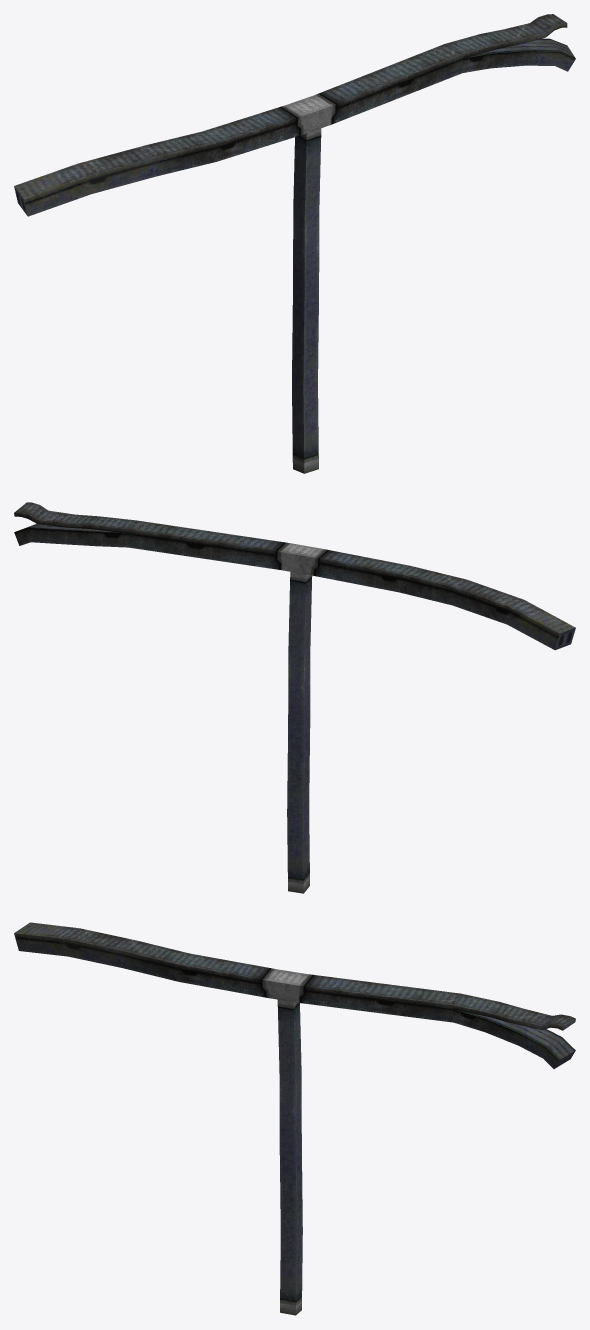
Rendered from railing_straight_short_broken.dae.
3 views of the same model, one above another, from view 1: azimuth 30°, elevation 25°; view 2: azimuth 150°, elevation 25°; view 3: azimuth 330°, elevation 25° (orthographic). The views are drawn at different scales.
Visible parts, largest first — view 1: railing_straight_short_broken; view 2: railing_straight_short_broken; view 3: railing_straight_short_broken.
Part boxes in pixels (bbox=[...]): railing_straight_short_broken: bbox=[14, 14, 575, 473]; railing_straight_short_broken: bbox=[14, 502, 575, 893]; railing_straight_short_broken: bbox=[14, 922, 575, 1315].
Bounding box in the file's own units: 1.99 × 1.22 × 0.289.
